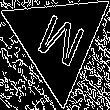M_SW: (29, 8, 87, 73)
